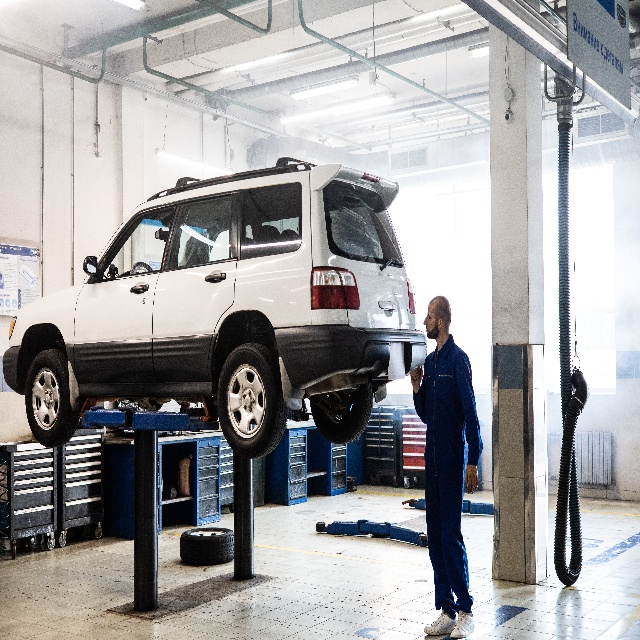Sin_guantes: (465, 463, 478, 494), (410, 365, 423, 388)
